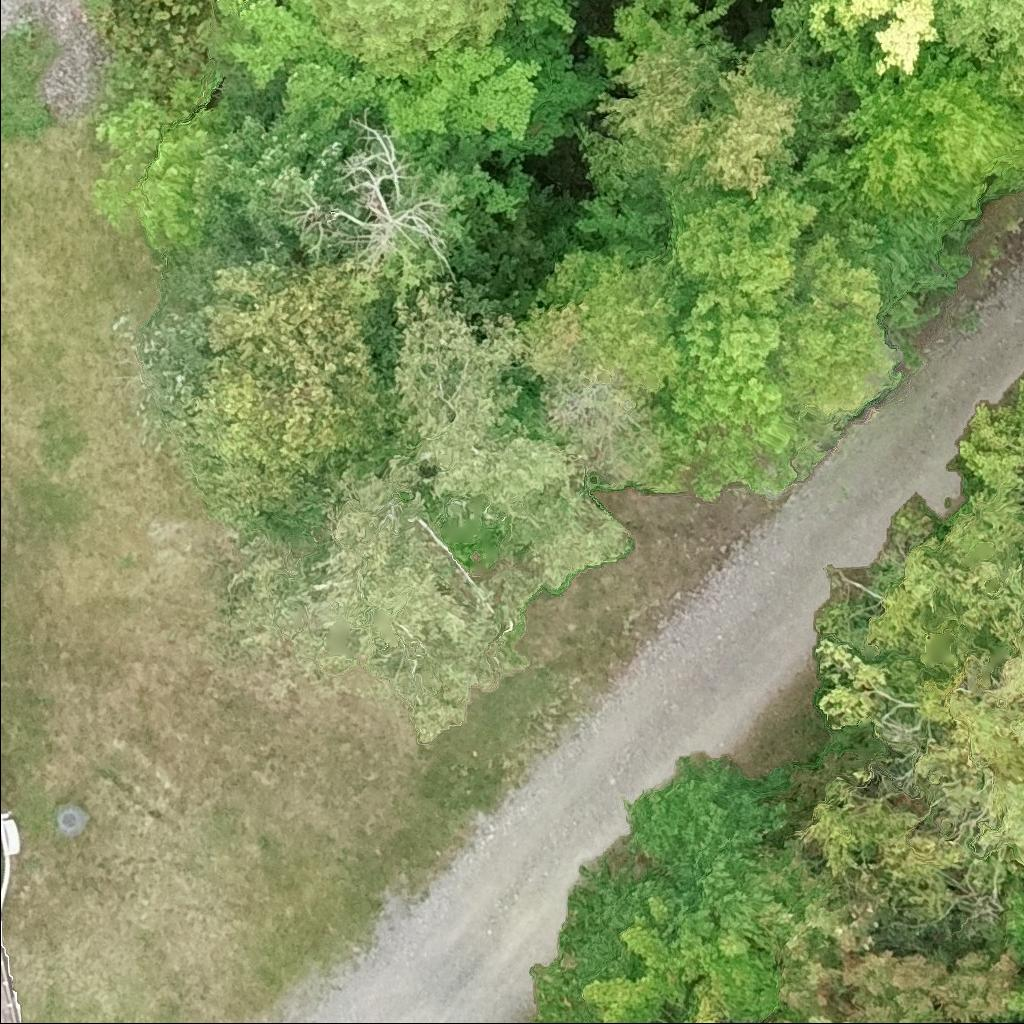crown: (191, 261, 630, 648), (598, 0, 811, 205), (804, 32, 1023, 221), (775, 870, 1020, 1023), (659, 162, 825, 321), (652, 281, 801, 455), (539, 243, 693, 395), (646, 890, 784, 1023), (307, 0, 514, 79), (381, 42, 542, 141), (217, 0, 359, 93), (581, 913, 692, 1023), (754, 852, 849, 967), (807, 0, 942, 74), (280, 61, 406, 125), (934, 0, 1023, 65), (996, 875, 1023, 1021), (511, 0, 580, 38), (675, 979, 723, 1023), (807, 1011, 858, 1023), (756, 1015, 792, 1023)
